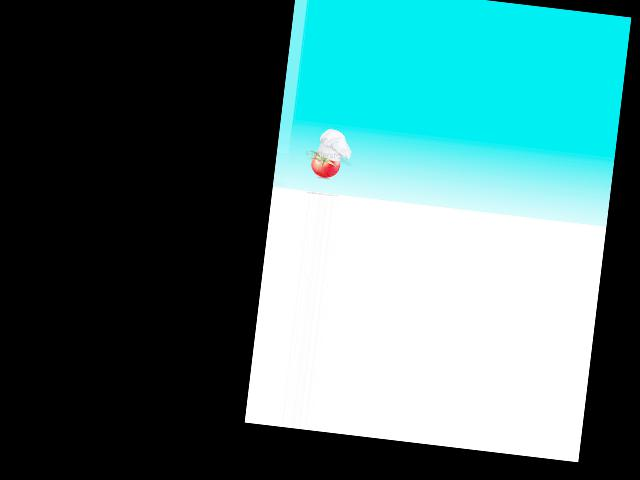tomato: (310, 151, 341, 178)
